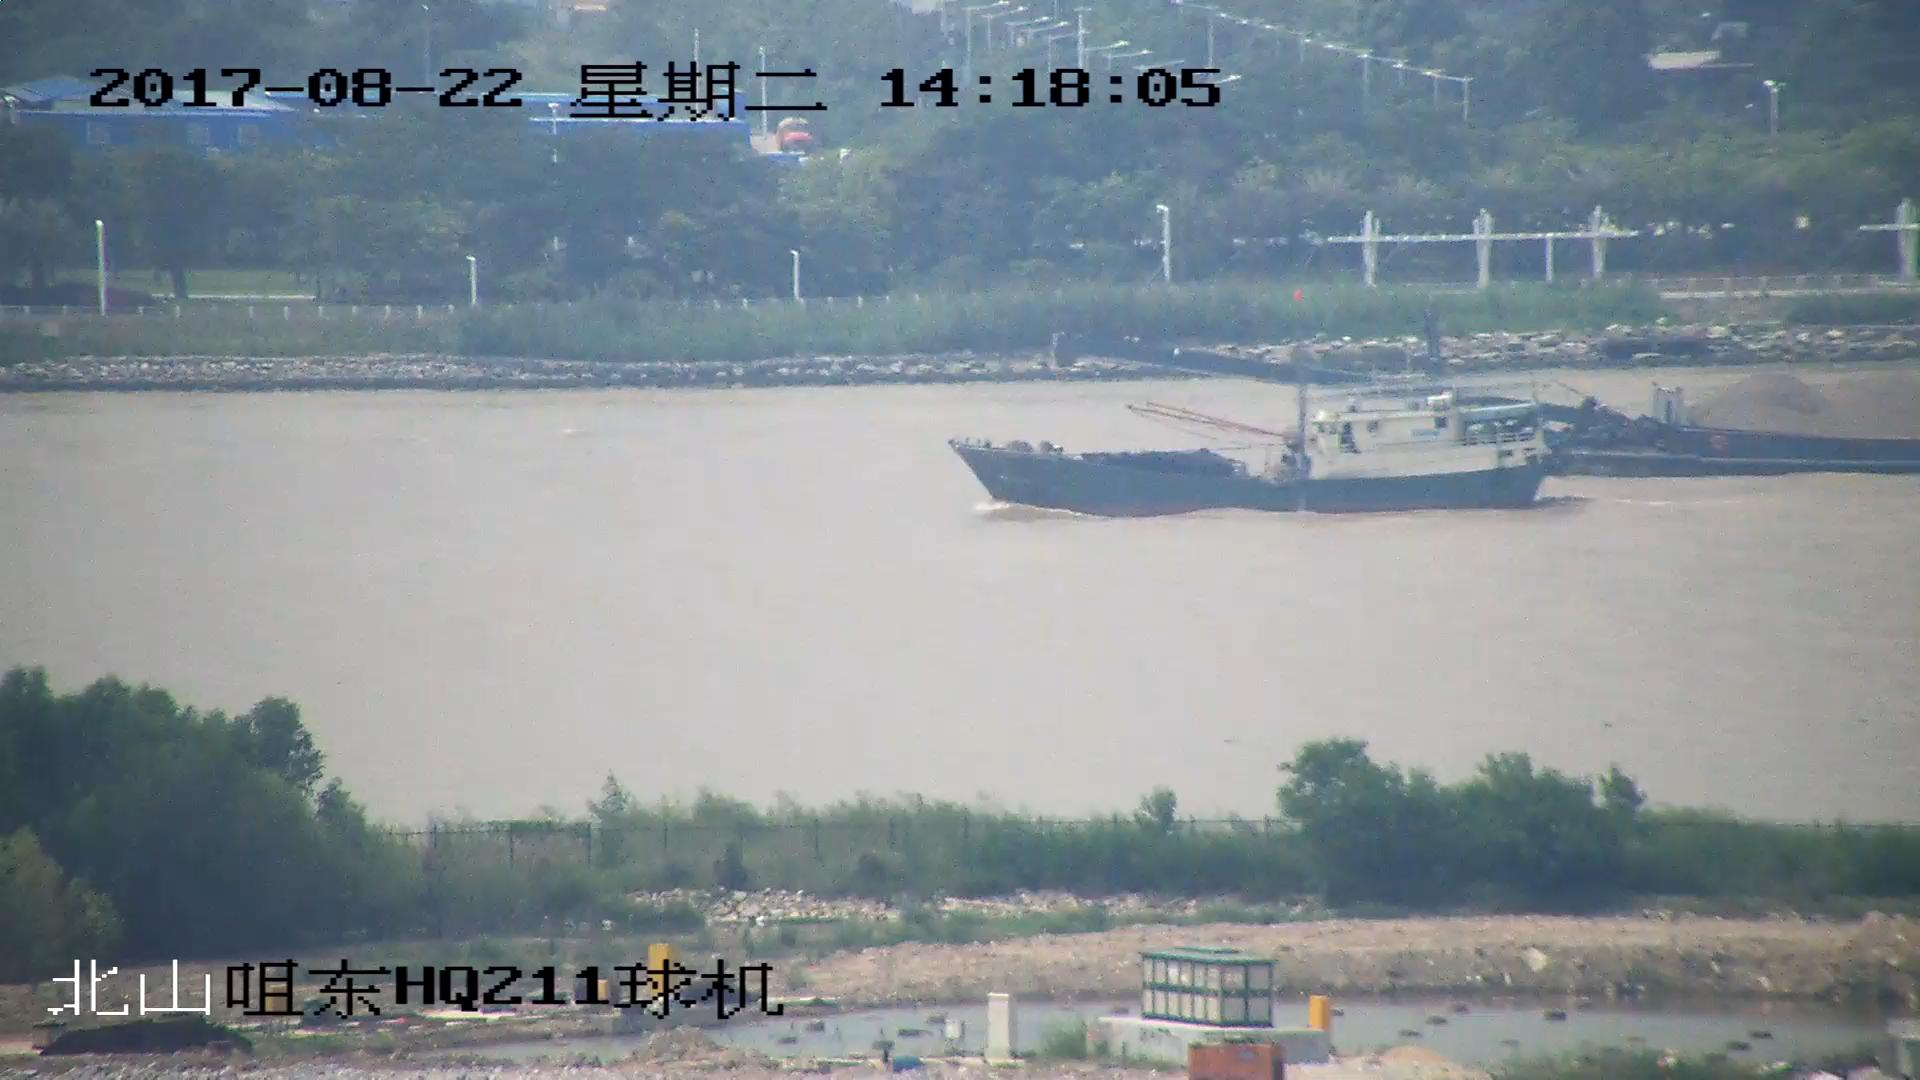fishing boat: (944, 290, 1570, 512)
ore carrier: (1053, 335, 1920, 479)
